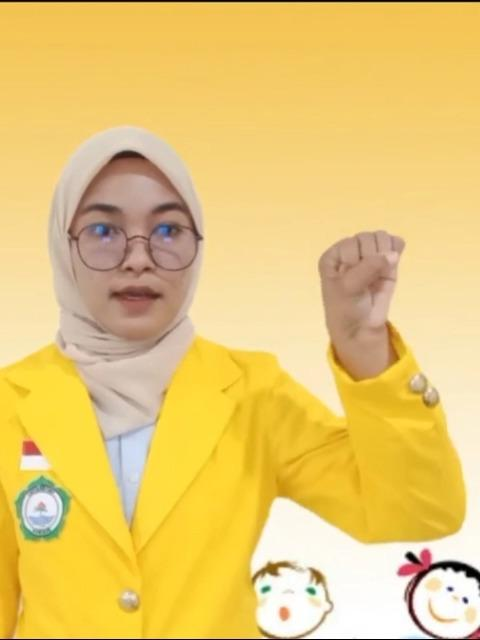S: (314, 227, 416, 326)
